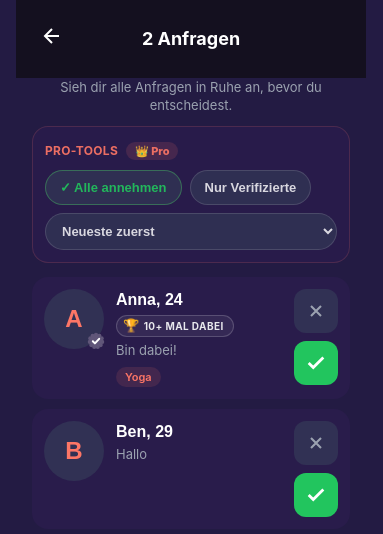
it: GroupRequests — review-all overview › accepts a single request without Pro (per-request action is free)
Expected: the button "Anna, 24" is shown, [116,291,183,309]
Note: Anna's accept button (aria-label "Annehmen") — first in DOM order (newest).
Click the button named "Annehmen" next to "Bin dabei!". click: x=316, y=363
box: [294,341,338,385]
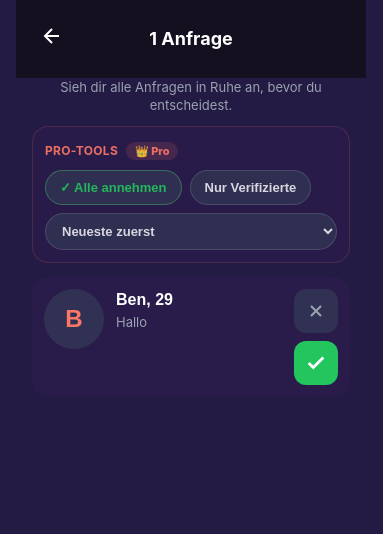
Expected: the button "Anna, 24" is gone
